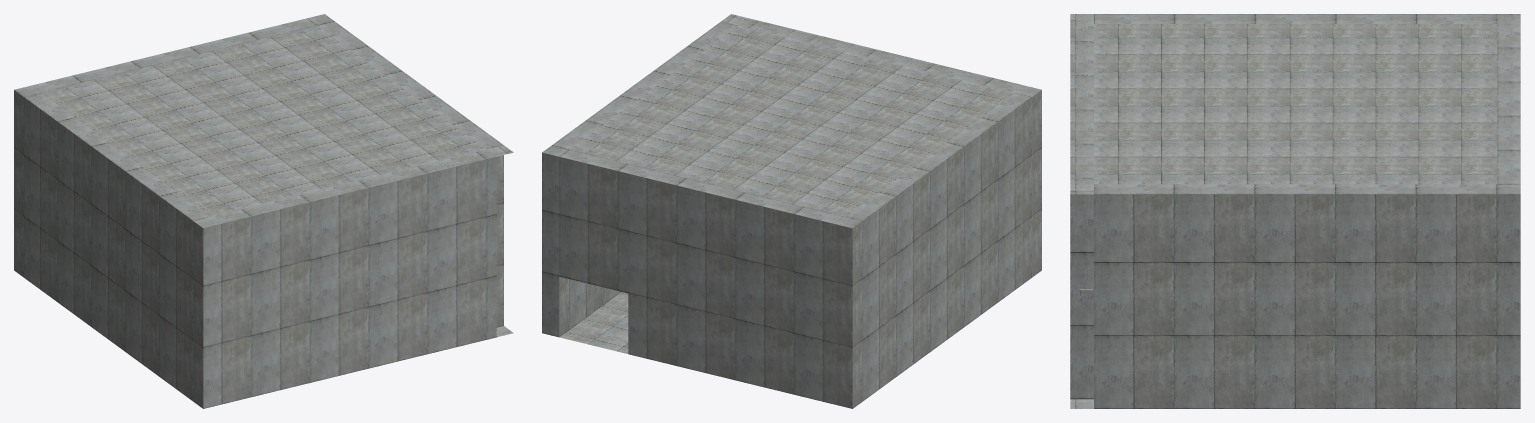
Rendered from Level_2.fbx.
3 views of the same model, side by side, from view 1: azimuth 30°, elevation 25°; view 2: azimuth 150°, elevation 25°; view 3: azimuth 270°, elevation 25° (orthographic). The views are drawn at different scales.
Visible parts, largest first — view 1: Ground__1_.001; view 2: Ground__1_.001; view 3: Ground__1_.001.
Part boxes in pixels (x1,y1,x2,y2): Ground__1_.001: [14, 14, 513, 408]; Ground__1_.001: [542, 14, 1041, 408]; Ground__1_.001: [1070, 14, 1520, 408].
Size of the model in its own units: 18 by 19 by 10.
